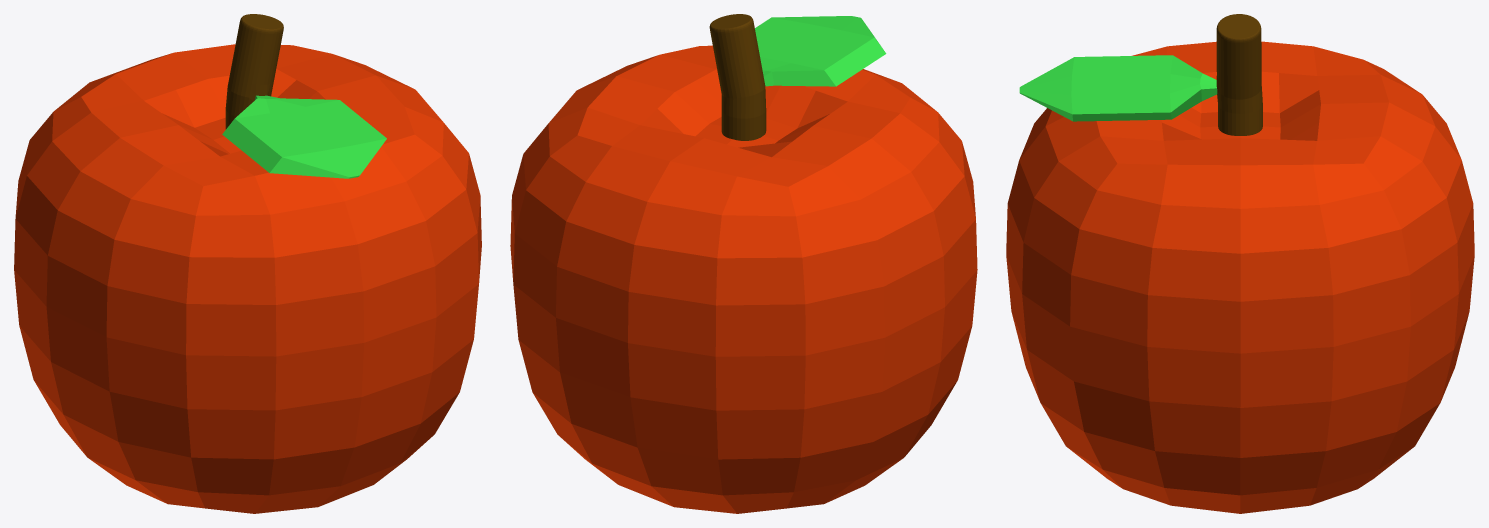
File: food_Apple.fbx
3 views of the same model, side by side, from view 1: azimuth 30°, elevation 25°; view 2: azimuth 150°, elevation 25°; view 3: azimuth 270°, elevation 25° (orthographic).
Visible parts, largest first — view 1: Cube, Cylinder; view 2: Cube, Cylinder; view 3: Cube, Cylinder.
Part boxes in pixels (x1,y1,x2,y2): Cube: [14, 44, 481, 513]; Cylinder: [222, 14, 386, 178]; Cube: [510, 45, 977, 513]; Cylinder: [709, 14, 886, 140]; Cube: [1006, 41, 1474, 513]; Cylinder: [1019, 14, 1262, 135].
Size of the model in its own units: 261 by 274 by 261.
